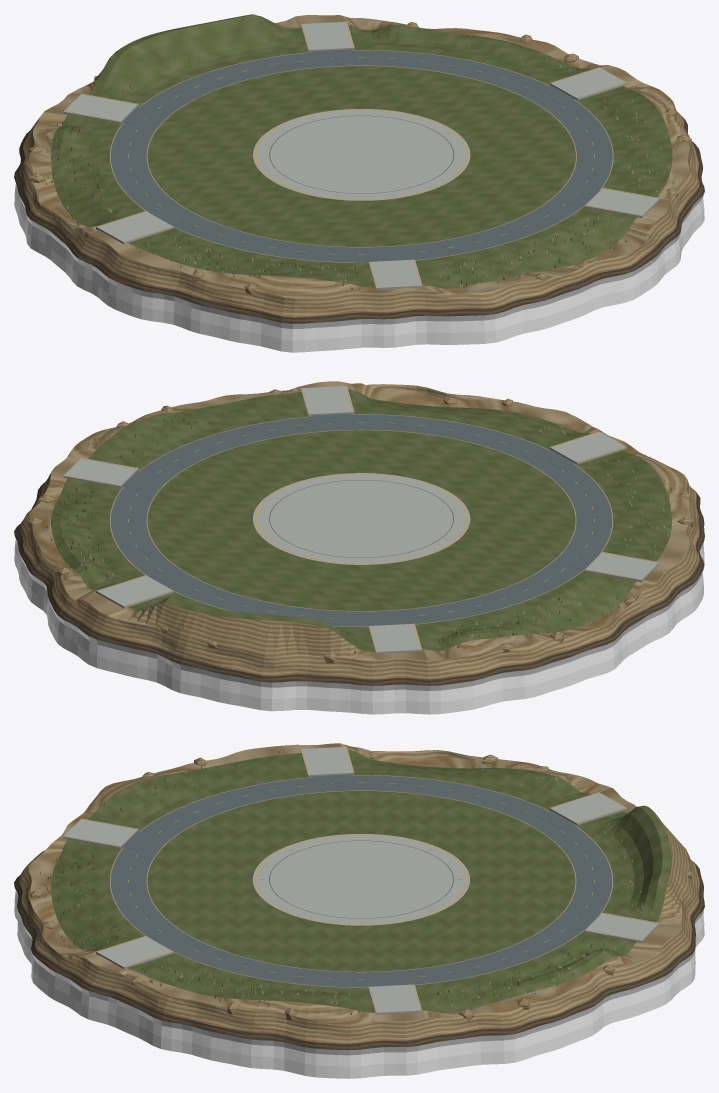
The model's file is parcel-hub.8849332f217e.glb.
3 views of the same model, one above another, from view 1: azimuth 30°, elevation 25°; view 2: azimuth 150°, elevation 25°; view 3: azimuth 270°, elevation 25° (orthographic).
Visible parts, largest first — view 1: parcel_closed_manifold_core, ring_road_surface, spaceport_empty_landing_pad, retained_palette_coastal_salt_grass, pad_closed_abutment_E150, pad_closed_abutment_E330, pad_closed_abutment_E90, pad_closed_abutment_E270, pad_closed_abutment_E210, pad_closed_abutment_E30, ring_road_ochre_edge_27.64, ring_road_ochre_edge_32.36 (+1 smaller); view 2: parcel_closed_manifold_core, ring_road_surface, spaceport_empty_landing_pad, retained_palette_coastal_salt_grass, pad_closed_abutment_E30, pad_closed_abutment_E210, pad_closed_abutment_E150, pad_closed_abutment_E330, pad_closed_abutment_E90, pad_closed_abutment_E270, ring_road_ochre_edge_27.64, ring_road_ochre_edge_32.36 (+1 smaller); view 3: parcel_closed_manifold_core, ring_road_surface, spaceport_empty_landing_pad, retained_palette_coastal_salt_grass, pad_closed_abutment_E270, pad_closed_abutment_E90, pad_closed_abutment_E210, pad_closed_abutment_E30, pad_closed_abutment_E330, pad_closed_abutment_E150, ring_road_ochre_edge_27.64, ring_road_ochre_edge_32.36 (+1 smaller).
Boxes of the visible parts, x1=… form: parcel_closed_manifold_core: x1=14, y1=14, x2=704, y2=352; ring_road_surface: x1=109, y1=50, x2=614, y2=263; spaceport_empty_landing_pad: x1=253, y1=109, x2=470, y2=200; retained_palette_coastal_salt_grass: x1=45, y1=30, x2=681, y2=291; pad_closed_abutment_E150: x1=96, y1=211, x2=173, y2=243; pad_closed_abutment_E330: x1=549, y1=67, x2=627, y2=100; pad_closed_abutment_E90: x1=63, y1=93, x2=138, y2=123; pad_closed_abutment_E270: x1=584, y1=187, x2=660, y2=218; pad_closed_abutment_E210: x1=368, y1=259, x2=422, y2=289; pad_closed_abutment_E30: x1=301, y1=21, x2=354, y2=51; ring_road_ochre_edge_27.64: x1=146, y1=65, x2=576, y2=247; ring_road_ochre_edge_32.36: x1=110, y1=50, x2=613, y2=262; parcel_closed_manifold_core: x1=14, y1=381, x2=704, y2=714; ring_road_surface: x1=109, y1=414, x2=613, y2=627; spaceport_empty_landing_pad: x1=253, y1=473, x2=470, y2=564; retained_palette_coastal_salt_grass: x1=41, y1=393, x2=678, y2=653; pad_closed_abutment_E30: x1=96, y1=575, x2=173, y2=608; pad_closed_abutment_E210: x1=549, y1=431, x2=626, y2=464; pad_closed_abutment_E150: x1=584, y1=552, x2=659, y2=582; pad_closed_abutment_E330: x1=63, y1=458, x2=138, y2=487; pad_closed_abutment_E90: x1=368, y1=623, x2=422, y2=653; pad_closed_abutment_E270: x1=301, y1=386, x2=354, y2=415; ring_road_ochre_edge_27.64: x1=146, y1=429, x2=576, y2=611; ring_road_ochre_edge_32.36: x1=110, y1=414, x2=612, y2=626; parcel_closed_manifold_core: x1=14, y1=743, x2=704, y2=1078; ring_road_surface: x1=109, y1=775, x2=613, y2=987; spaceport_empty_landing_pad: x1=252, y1=834, x2=469, y2=925; retained_palette_coastal_salt_grass: x1=39, y1=750, x2=663, y2=1014; pad_closed_abutment_E270: x1=96, y1=936, x2=173, y2=968; pad_closed_abutment_E90: x1=549, y1=792, x2=626, y2=825; pad_closed_abutment_E210: x1=63, y1=818, x2=138, y2=848; pad_closed_abutment_E30: x1=584, y1=912, x2=659, y2=942; pad_closed_abutment_E330: x1=368, y1=984, x2=422, y2=1014; pad_closed_abutment_E150: x1=300, y1=746, x2=354, y2=776; ring_road_ochre_edge_27.64: x1=146, y1=790, x2=576, y2=972; ring_road_ochre_edge_32.36: x1=110, y1=775, x2=612, y2=987.
Size of the model in its own units: 89.22 by 10.95 by 89.03.
10 materials, 3 textured.
